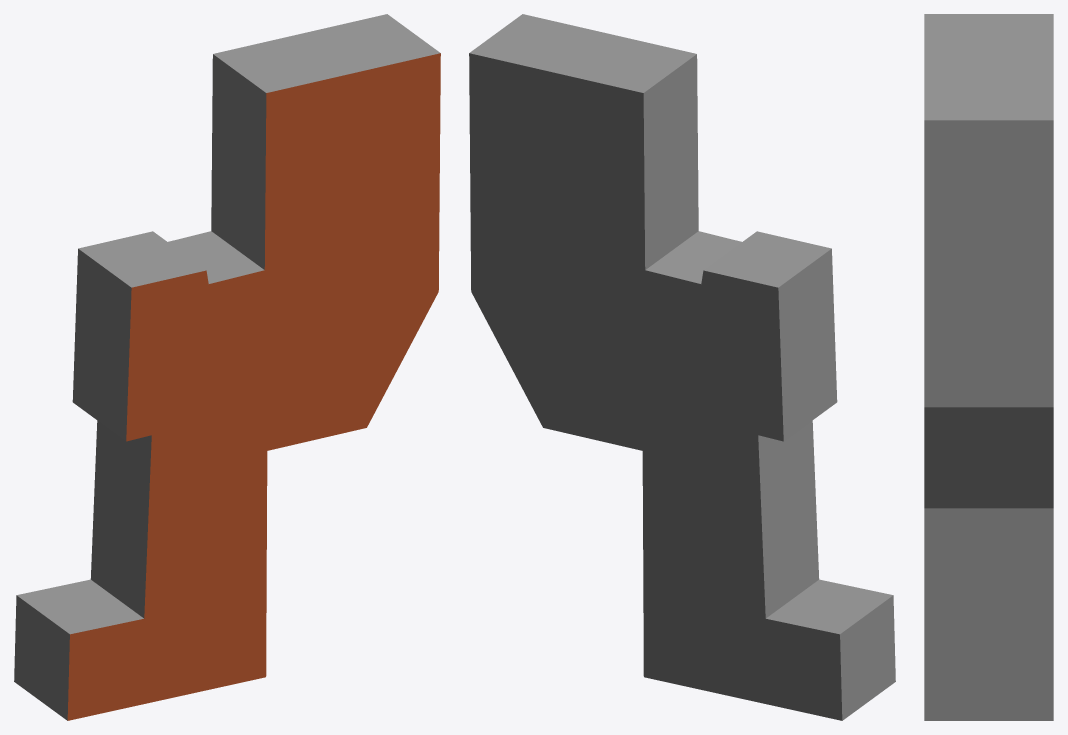
The model's file is construction_3646_assumed_A_Casa_h6m.obj.
3 views of the same model, side by side, from view 1: azimuth 30°, elevation 25°; view 2: azimuth 150°, elevation 25°; view 3: azimuth 270°, elevation 25° (orthographic). The views are drawn at different scales.
Visible parts, largest first — view 1: construction_3646_assumed_A_Casa; view 2: construction_3646_assumed_A_Casa; view 3: construction_3646_assumed_A_Casa.
Boxes of the visible parts, x1,y1,x2,y2 form: construction_3646_assumed_A_Casa: (14, 14, 440, 720); construction_3646_assumed_A_Casa: (469, 14, 895, 720); construction_3646_assumed_A_Casa: (924, 14, 1053, 720).
Size of the model in its own units: 24.16 by 36.12 by 6.
